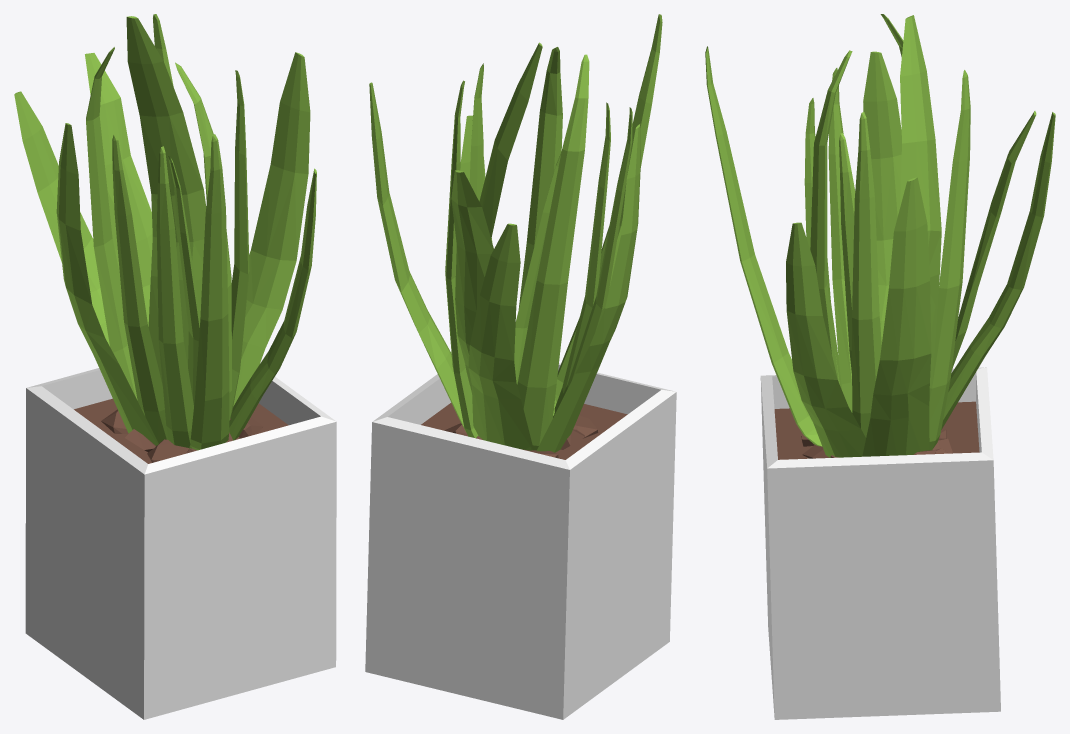
The model's file is big plant potORIGIN.fbx.
The picture shows the model from 3 angles, left to right: view 1: azimuth 30°, elevation 25°; view 2: azimuth 150°, elevation 25°; view 3: azimuth 270°, elevation 25°; orthographic projection.
Parts seen in each view (by area): view 1: group634077015.001, group634077015.002, group634077015.003, group634077015.007, group634077015.005, group634077015.006; view 2: group634077015.001, group634077015.006, group634077015.005, group634077015.007, group634077015.003, group634077015.002; view 3: group634077015.001, group634077015.007, group634077015.006, group634077015.005, group634077015.003, group634077015.002.
Boxes of the visible parts, bbox=[...] form: group634077015.001: bbox=[14, 14, 336, 534]; group634077015.002: bbox=[115, 484, 336, 633]; group634077015.003: bbox=[80, 583, 336, 719]; group634077015.007: bbox=[42, 437, 119, 649]; group634077015.005: bbox=[25, 542, 94, 672]; group634077015.006: bbox=[25, 417, 78, 615]; group634077015.001: bbox=[369, 14, 676, 499]; group634077015.006: bbox=[367, 452, 612, 627]; group634077015.005: bbox=[365, 579, 626, 719]; group634077015.007: bbox=[583, 467, 652, 627]; group634077015.003: bbox=[612, 554, 672, 683]; group634077015.002: bbox=[646, 453, 674, 566]; group634077015.001: bbox=[705, 14, 1055, 531]; group634077015.007: bbox=[810, 502, 957, 675]; group634077015.006: bbox=[892, 491, 998, 660]; group634077015.005: bbox=[860, 619, 1000, 715]; group634077015.003: bbox=[765, 543, 888, 719]; group634077015.002: bbox=[762, 442, 821, 633].
Size of the model in its own units: 7.64 by 18.29 by 9.08.
